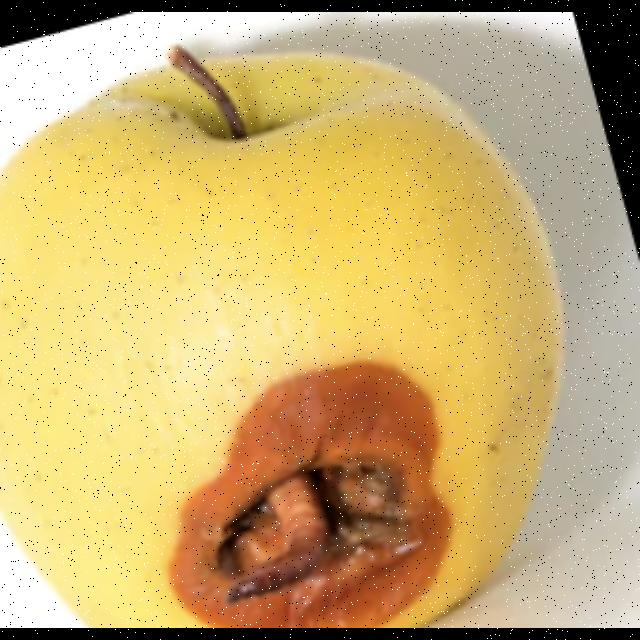Apel Segar: (0, 41, 554, 605)
Apel Tidak Segar: (113, 328, 496, 628)
